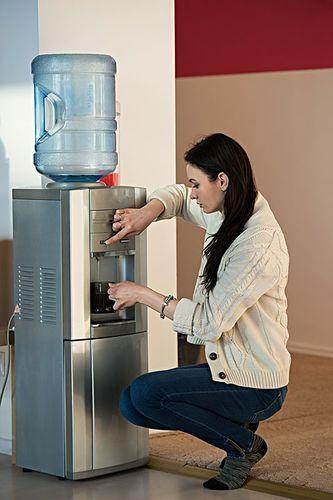Dispenser: (9, 52, 149, 480)
